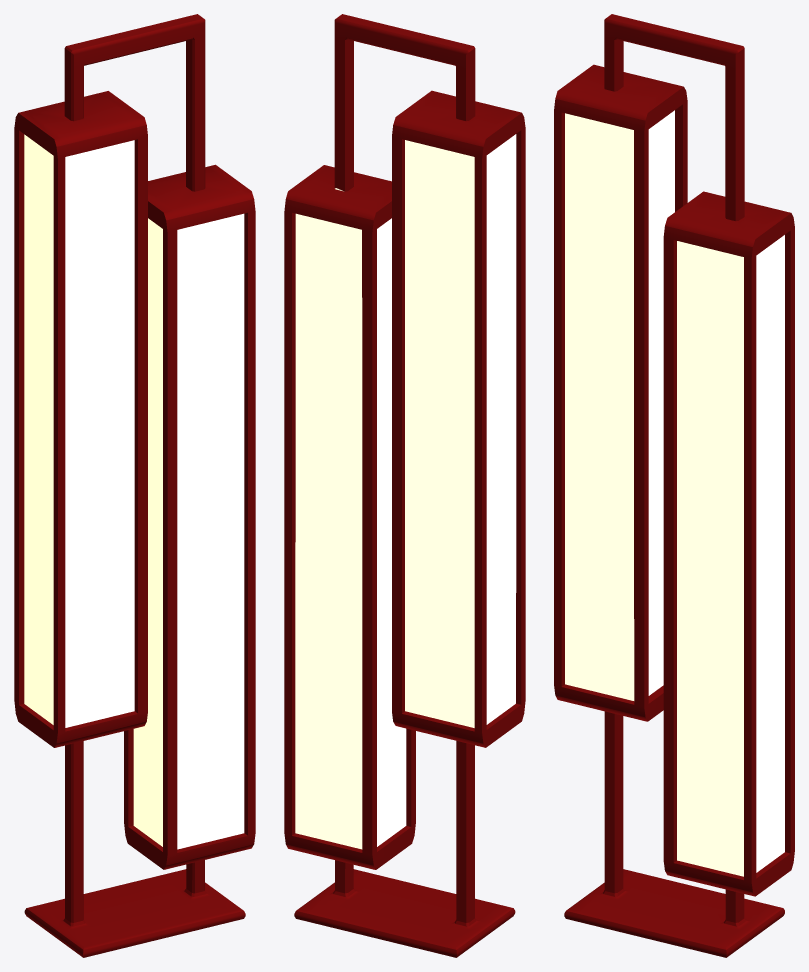
File: floorLamp.fbx
3 renders of one model, left to right at view 1: azimuth 30°, elevation 25°; view 2: azimuth 150°, elevation 25°; view 3: azimuth 330°, elevation 25°, orthographic.
Parts seen in each view (by area): view 1: group6_pCube11, pPlane1, pPlane8, pPlane7, pPlane4; view 2: group6_pCube11, pPlane2, pPlane5, pPlane7, pPlane4; view 3: group6_pCube11, pPlane1, pPlane8, pPlane3, pPlane6.
Part boxes in pixels (left/top/right/bottom): group6_pCube11: left=14, top=14, right=255, bottom=957; pPlane1: left=177, top=213, right=244, bottom=849; pPlane8: left=65, top=140, right=134, bottom=727; pPlane7: left=24, top=134, right=53, bottom=724; pPlane4: left=133, top=218, right=162, bottom=846; group6_pCube11: left=284, top=14, right=525, bottom=957; pPlane2: left=295, top=213, right=362, bottom=849; pPlane5: left=405, top=140, right=474, bottom=727; pPlane7: left=486, top=134, right=516, bottom=724; pPlane4: left=377, top=218, right=406, bottom=846; group6_pCube11: left=554, top=14, right=794, bottom=957; pPlane1: left=677, top=241, right=743, bottom=876; pPlane8: left=565, top=113, right=634, bottom=700; pPlane3: left=756, top=235, right=784, bottom=872; pPlane6: left=648, top=110, right=674, bottom=695.
Bounding box in the file's own units: 47.46 × 203 × 24.31.
